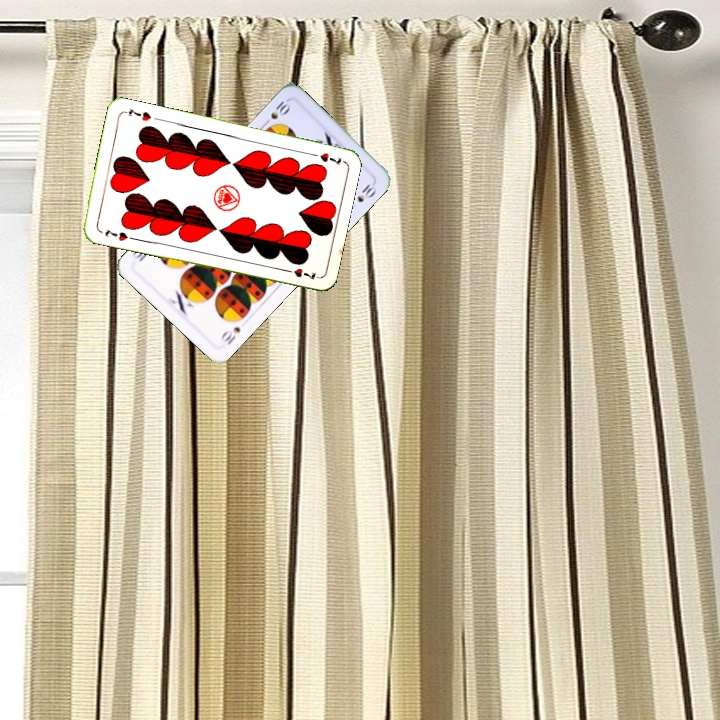H7: (305, 148, 345, 168), (101, 225, 130, 244)
S10: (259, 95, 293, 129), (217, 323, 243, 348)
